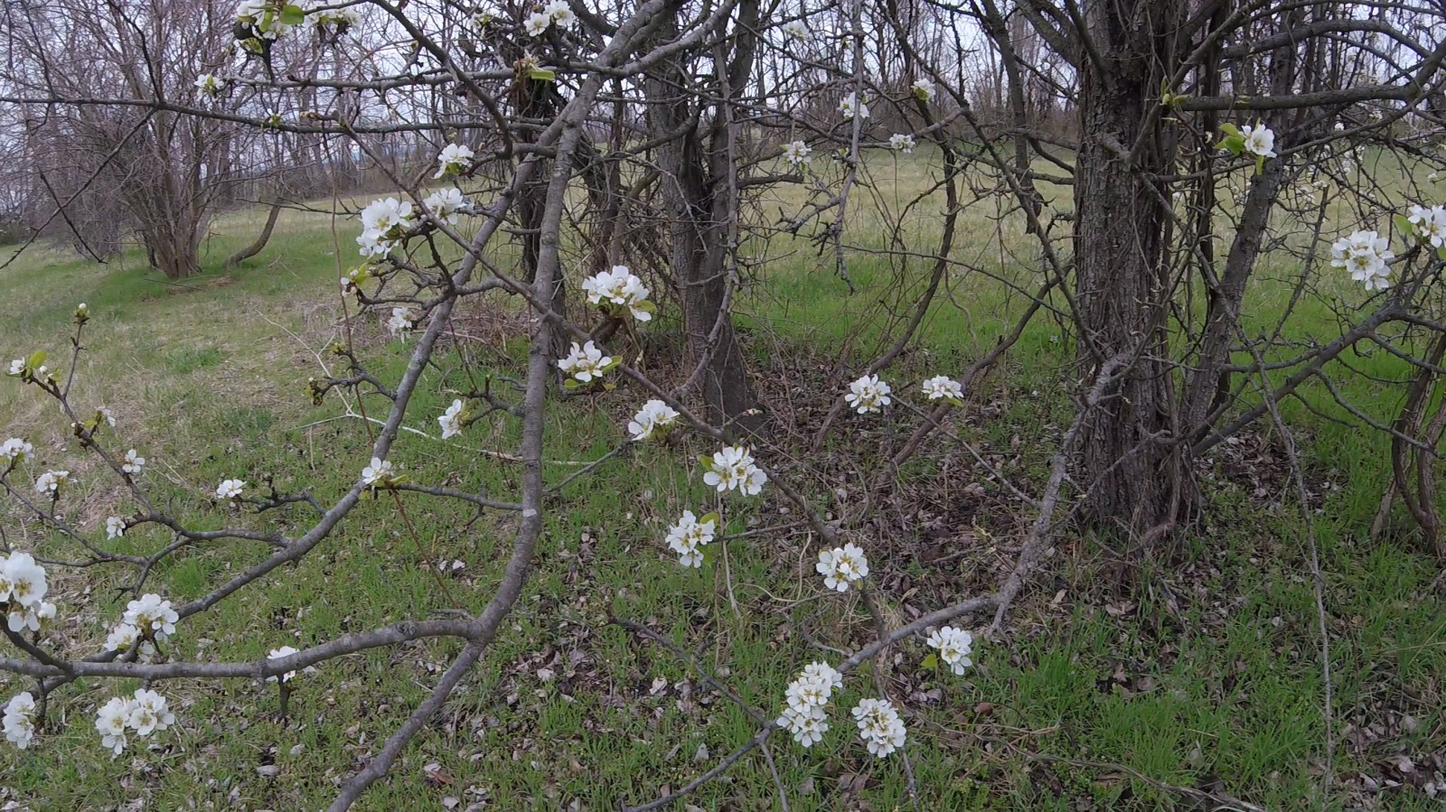flower: (95, 688, 175, 762), (777, 661, 843, 748), (103, 594, 186, 651), (0, 551, 57, 633), (1330, 224, 1395, 291), (582, 266, 653, 322), (701, 447, 769, 498), (356, 198, 412, 259), (852, 699, 906, 759), (666, 510, 717, 570), (845, 375, 913, 418), (559, 327, 615, 378), (816, 542, 869, 593), (925, 627, 974, 676), (629, 400, 681, 441), (523, 0, 579, 37), (2, 692, 37, 750), (1406, 201, 1446, 248), (424, 188, 469, 226), (427, 144, 474, 180), (1239, 117, 1278, 158), (385, 307, 418, 343), (783, 137, 816, 172), (0, 434, 37, 464), (921, 375, 964, 400), (438, 399, 463, 440), (35, 470, 71, 496), (362, 457, 392, 484), (263, 16, 296, 40), (194, 71, 215, 105), (915, 71, 936, 105), (123, 450, 146, 481), (781, 19, 813, 41), (217, 479, 248, 499), (236, 0, 267, 16), (137, 640, 155, 666), (107, 517, 127, 540), (838, 92, 856, 117), (890, 134, 916, 150), (212, 67, 229, 90), (268, 647, 300, 659), (10, 356, 30, 375), (860, 103, 870, 118), (541, 0, 548, 5), (961, 400, 966, 405)
